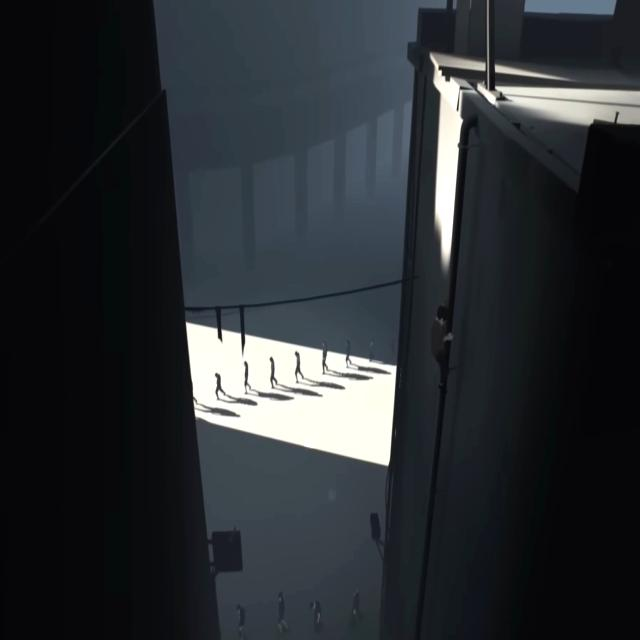boy: (430, 304, 454, 393)
